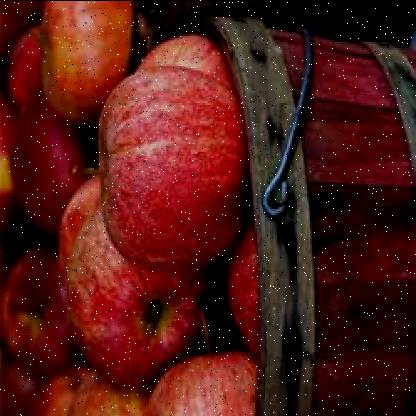apple: (56, 173, 212, 365), (99, 61, 238, 269), (10, 102, 92, 228), (32, 2, 124, 114), (2, 257, 69, 371), (148, 344, 256, 414)
